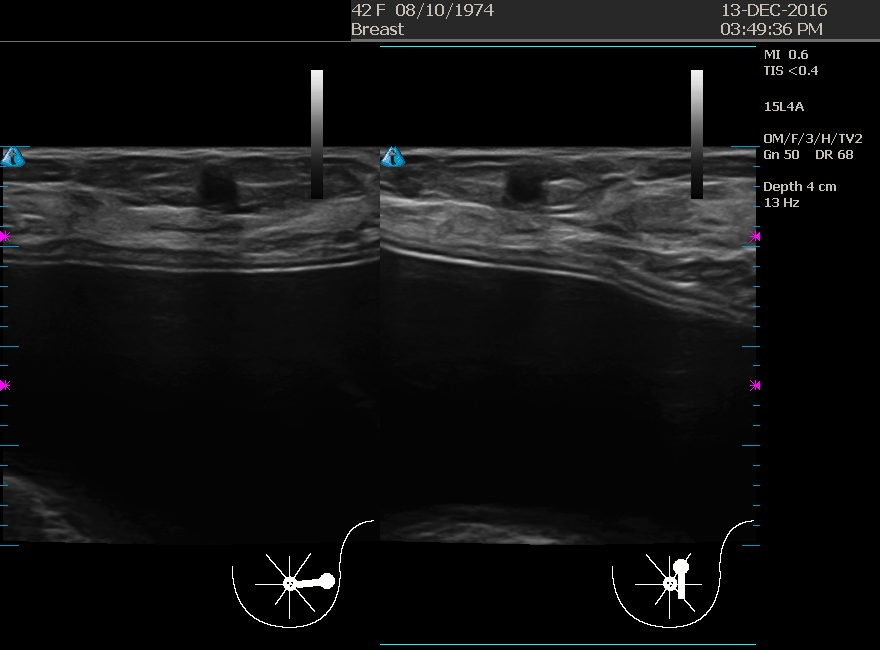BIRADS_2: (105, 149, 305, 350), (405, 149, 605, 350)
